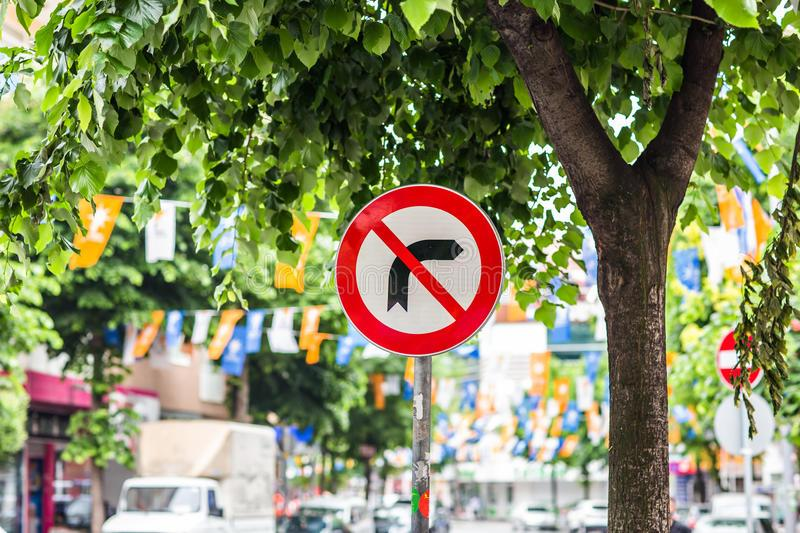no_right_turn: (334, 181, 505, 356)
